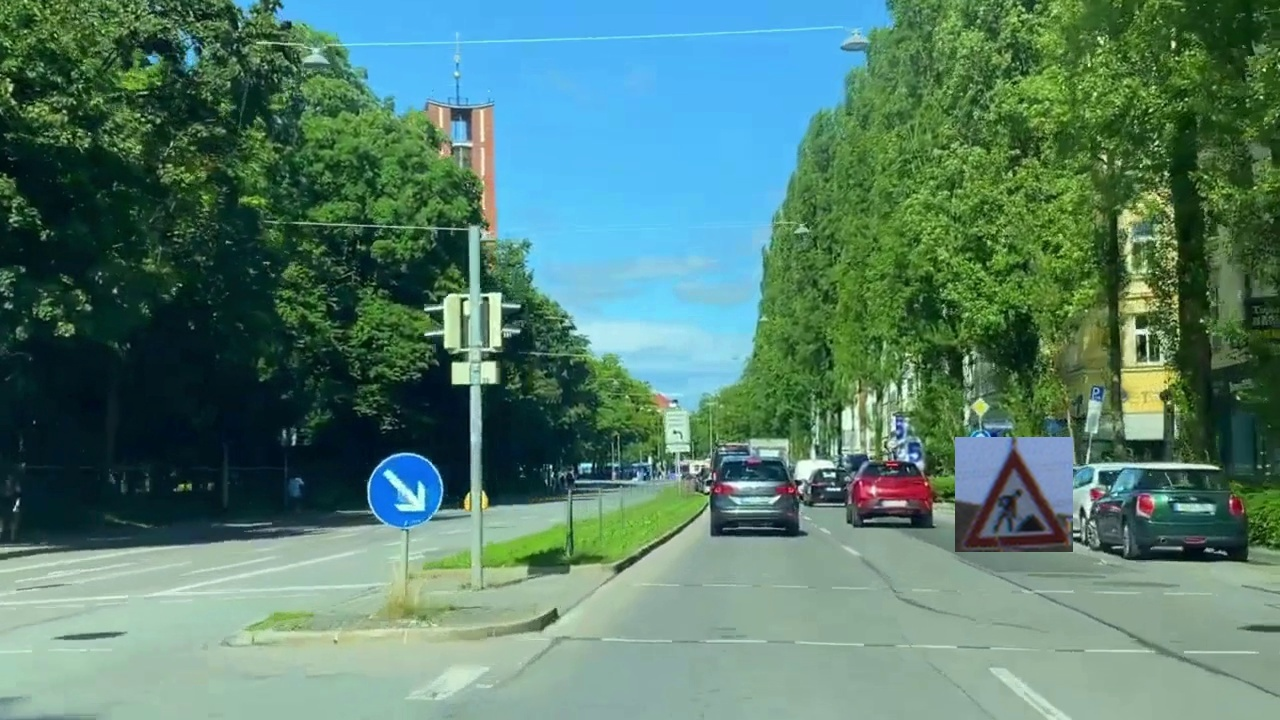Road work: (955, 437, 1073, 552)
